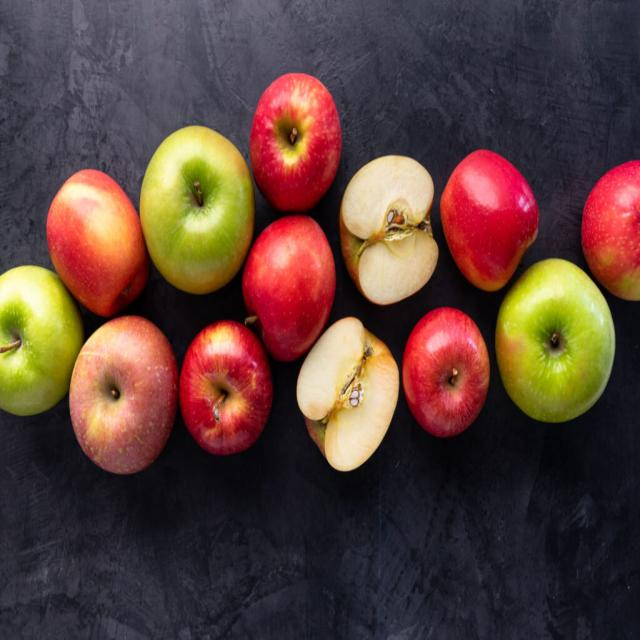Green Apple: (496, 256, 618, 422), (139, 123, 256, 295), (295, 318, 399, 468), (2, 265, 85, 416)
Red Apple: (164, 482, 632, 640), (67, 314, 181, 473), (47, 168, 153, 318), (340, 155, 438, 305), (441, 148, 541, 293), (243, 214, 338, 363), (248, 69, 343, 213), (179, 320, 275, 457), (402, 307, 491, 439), (580, 158, 640, 303)
